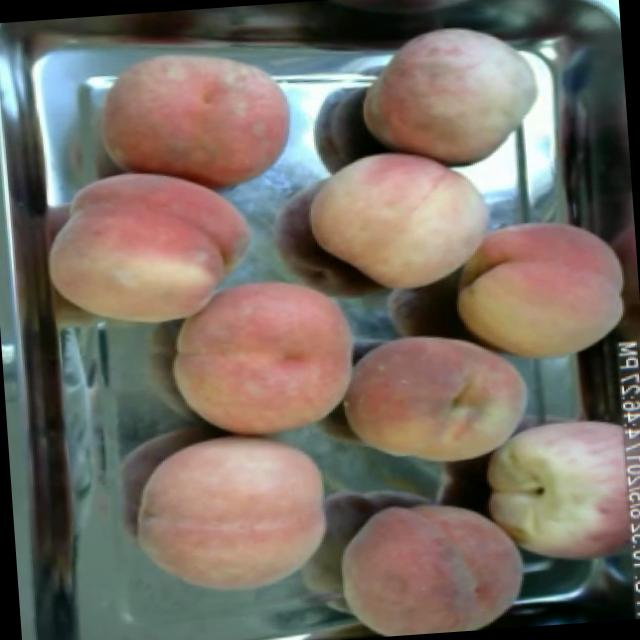Fruit: (36, 151, 268, 340), (120, 414, 344, 606), (154, 258, 372, 450), (84, 31, 306, 204), (328, 317, 542, 483), (294, 136, 500, 306), (320, 478, 534, 640), (442, 205, 636, 371), (347, 12, 533, 182), (472, 402, 638, 576)
